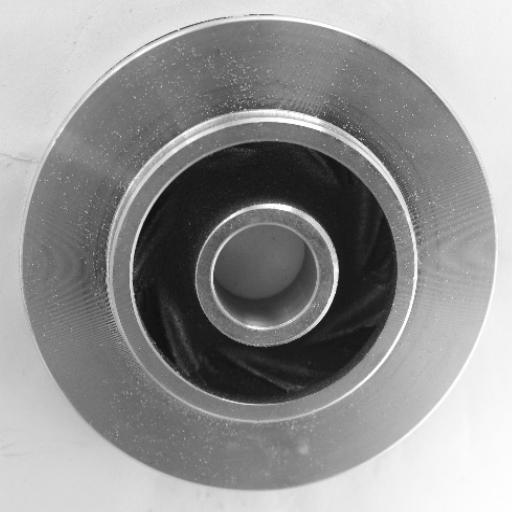polished_casting: (23, 14, 496, 494)
